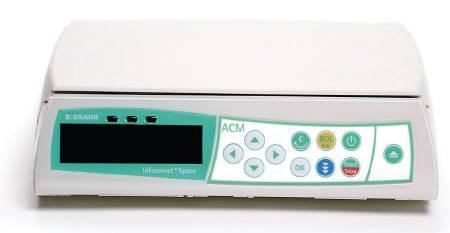BBraun Infusomat Space: (30, 12, 443, 211)
